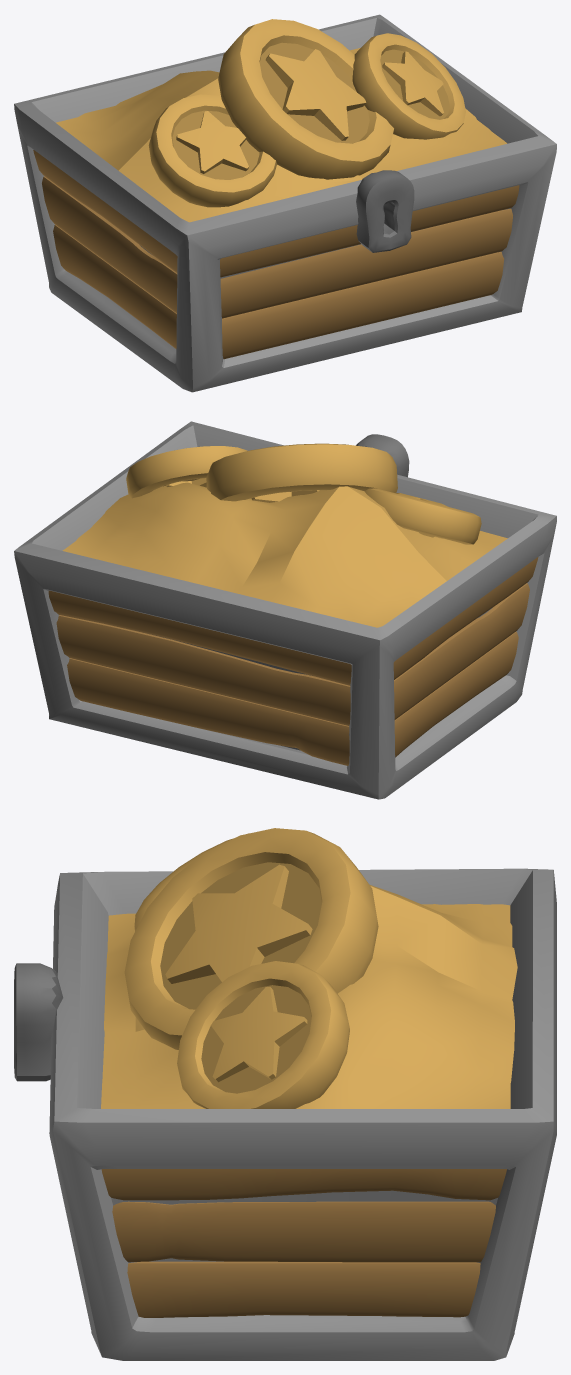
The model's file is Chest_Bottom.fbx.
3 renders of one model, top to bottom at view 1: azimuth 30°, elevation 25°; view 2: azimuth 150°, elevation 25°; view 3: azimuth 270°, elevation 25°, orthographic. The views are drawn at different scales.
Visible parts, largest first — view 1: Chest_Bottom; view 2: Chest_Bottom; view 3: Chest_Bottom.
Part boxes in pixels (bbox=[...]): Chest_Bottom: bbox=[14, 14, 556, 392]; Chest_Bottom: bbox=[14, 421, 556, 799]; Chest_Bottom: bbox=[14, 828, 556, 1360].
Size of the model in its own units: 204 by 144 by 183.
